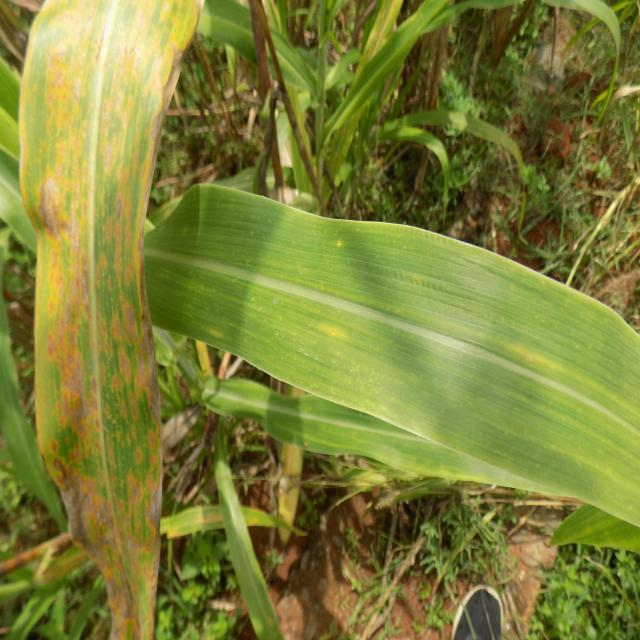millet_healthy: (127, 177, 640, 547)
millet_rust: (19, 0, 199, 640)
